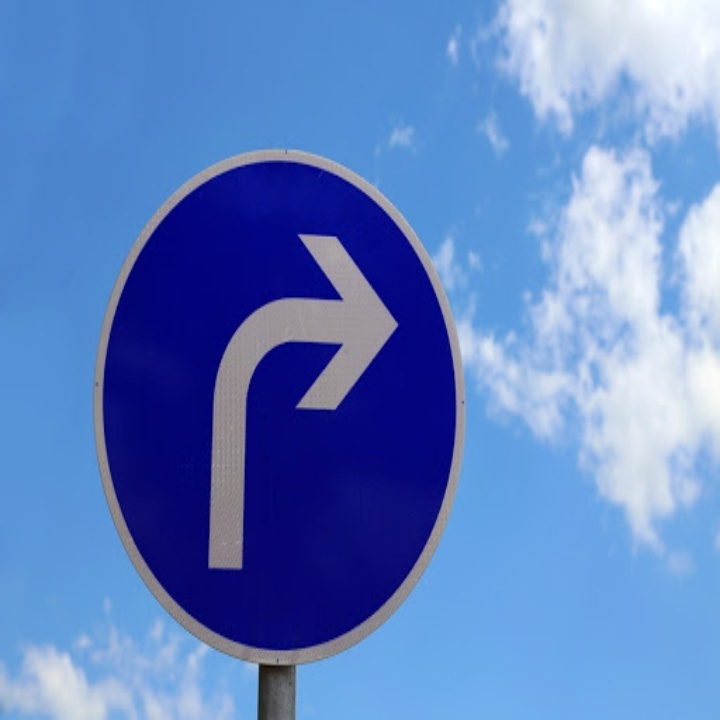right: (190, 215, 405, 590)
